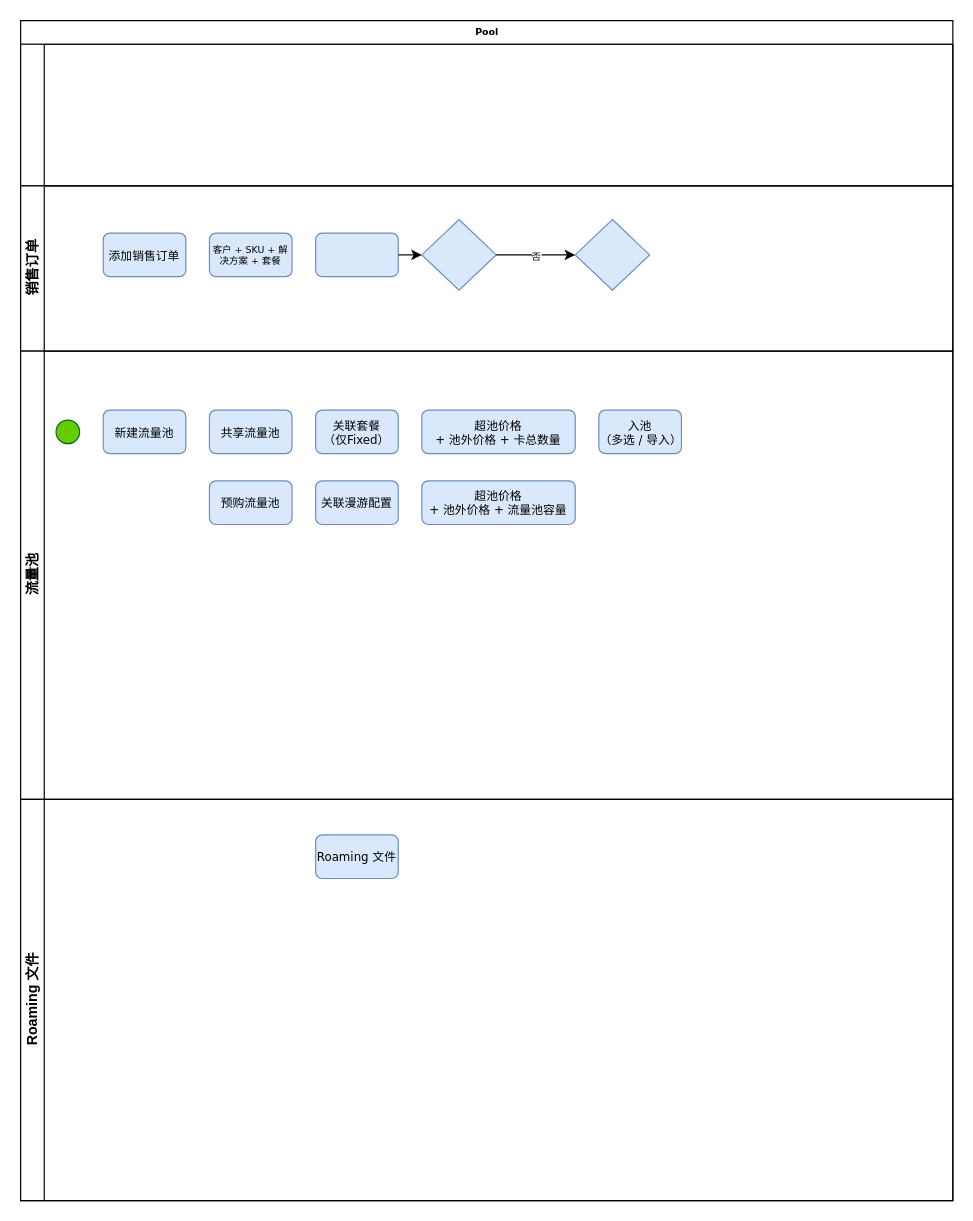
Some shapes in this 973 by 1221 pixel diagram are drawn without their labels. The centre of each missing label's shape, as x and y in pixels:
active / active test?: pixel 612 254
suspend?: pixel 458 254
划拨: pixel 356 254
套餐管理: pixel 486 114
